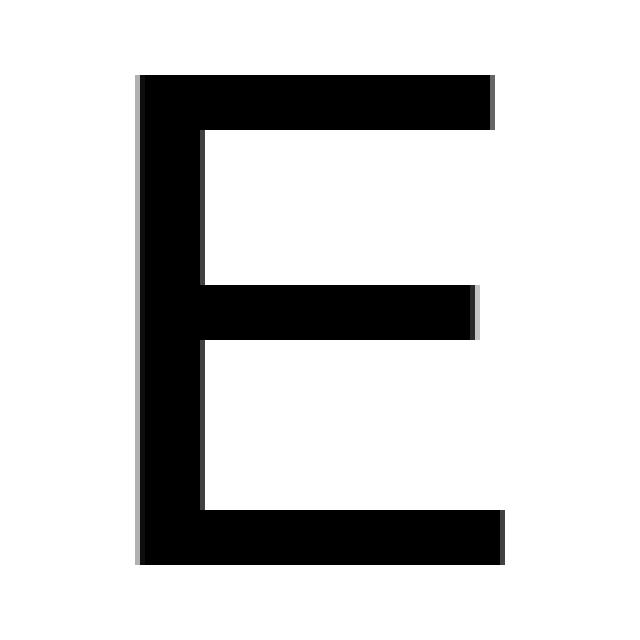E: (140, 75, 510, 565)
